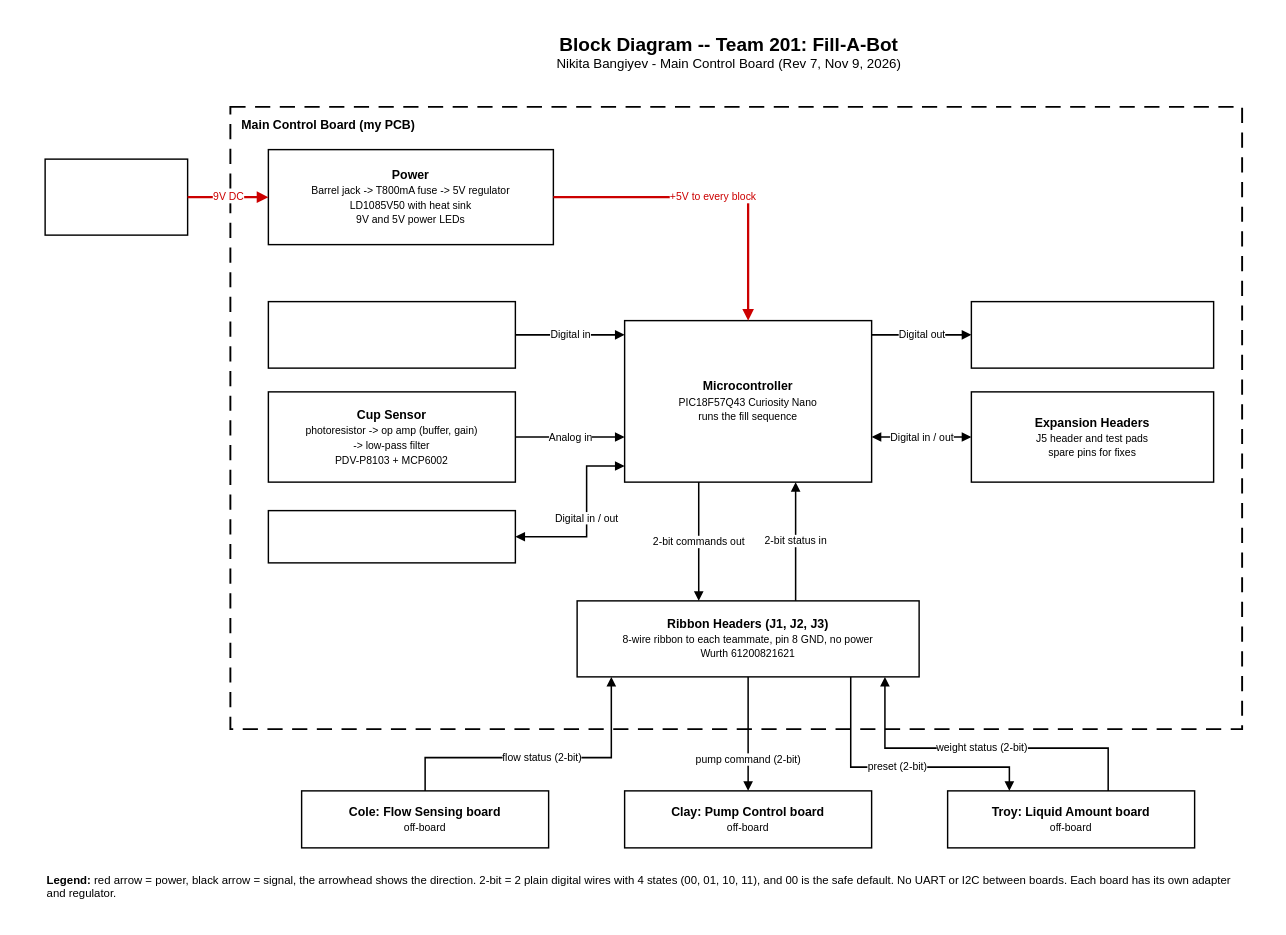
Some shapes in this 1286 by 935 pixel diagram are drawn without their labels. The shapes that lost their labels are listed below. From the top down, each one's box as (x1, y1, x2, y2) in pixels, then its label:
(44, 158, 188, 235): Wall adapter 9V 2A, off-board Triad WSU090-2000
(267, 300, 516, 368): Buttons UP = preset 1, DOWN = preset 2 START, STOP pull-ups and RC debounce
(970, 300, 1214, 368): Status LEDs Dispensing, Done, Fault
(267, 509, 516, 563): Debug button and LED
